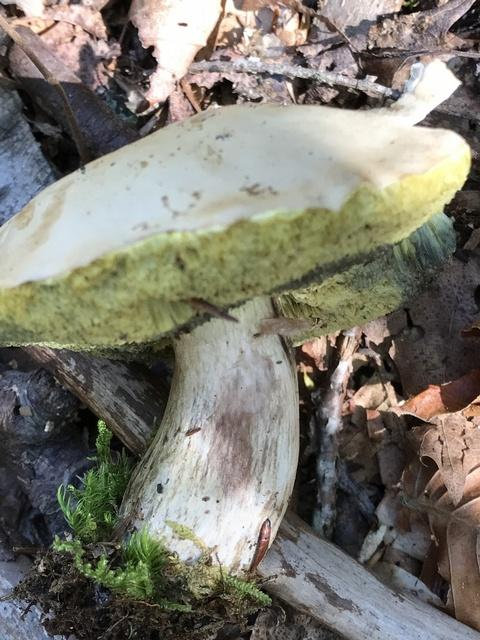edible_mushroom: (0, 60, 472, 582)
